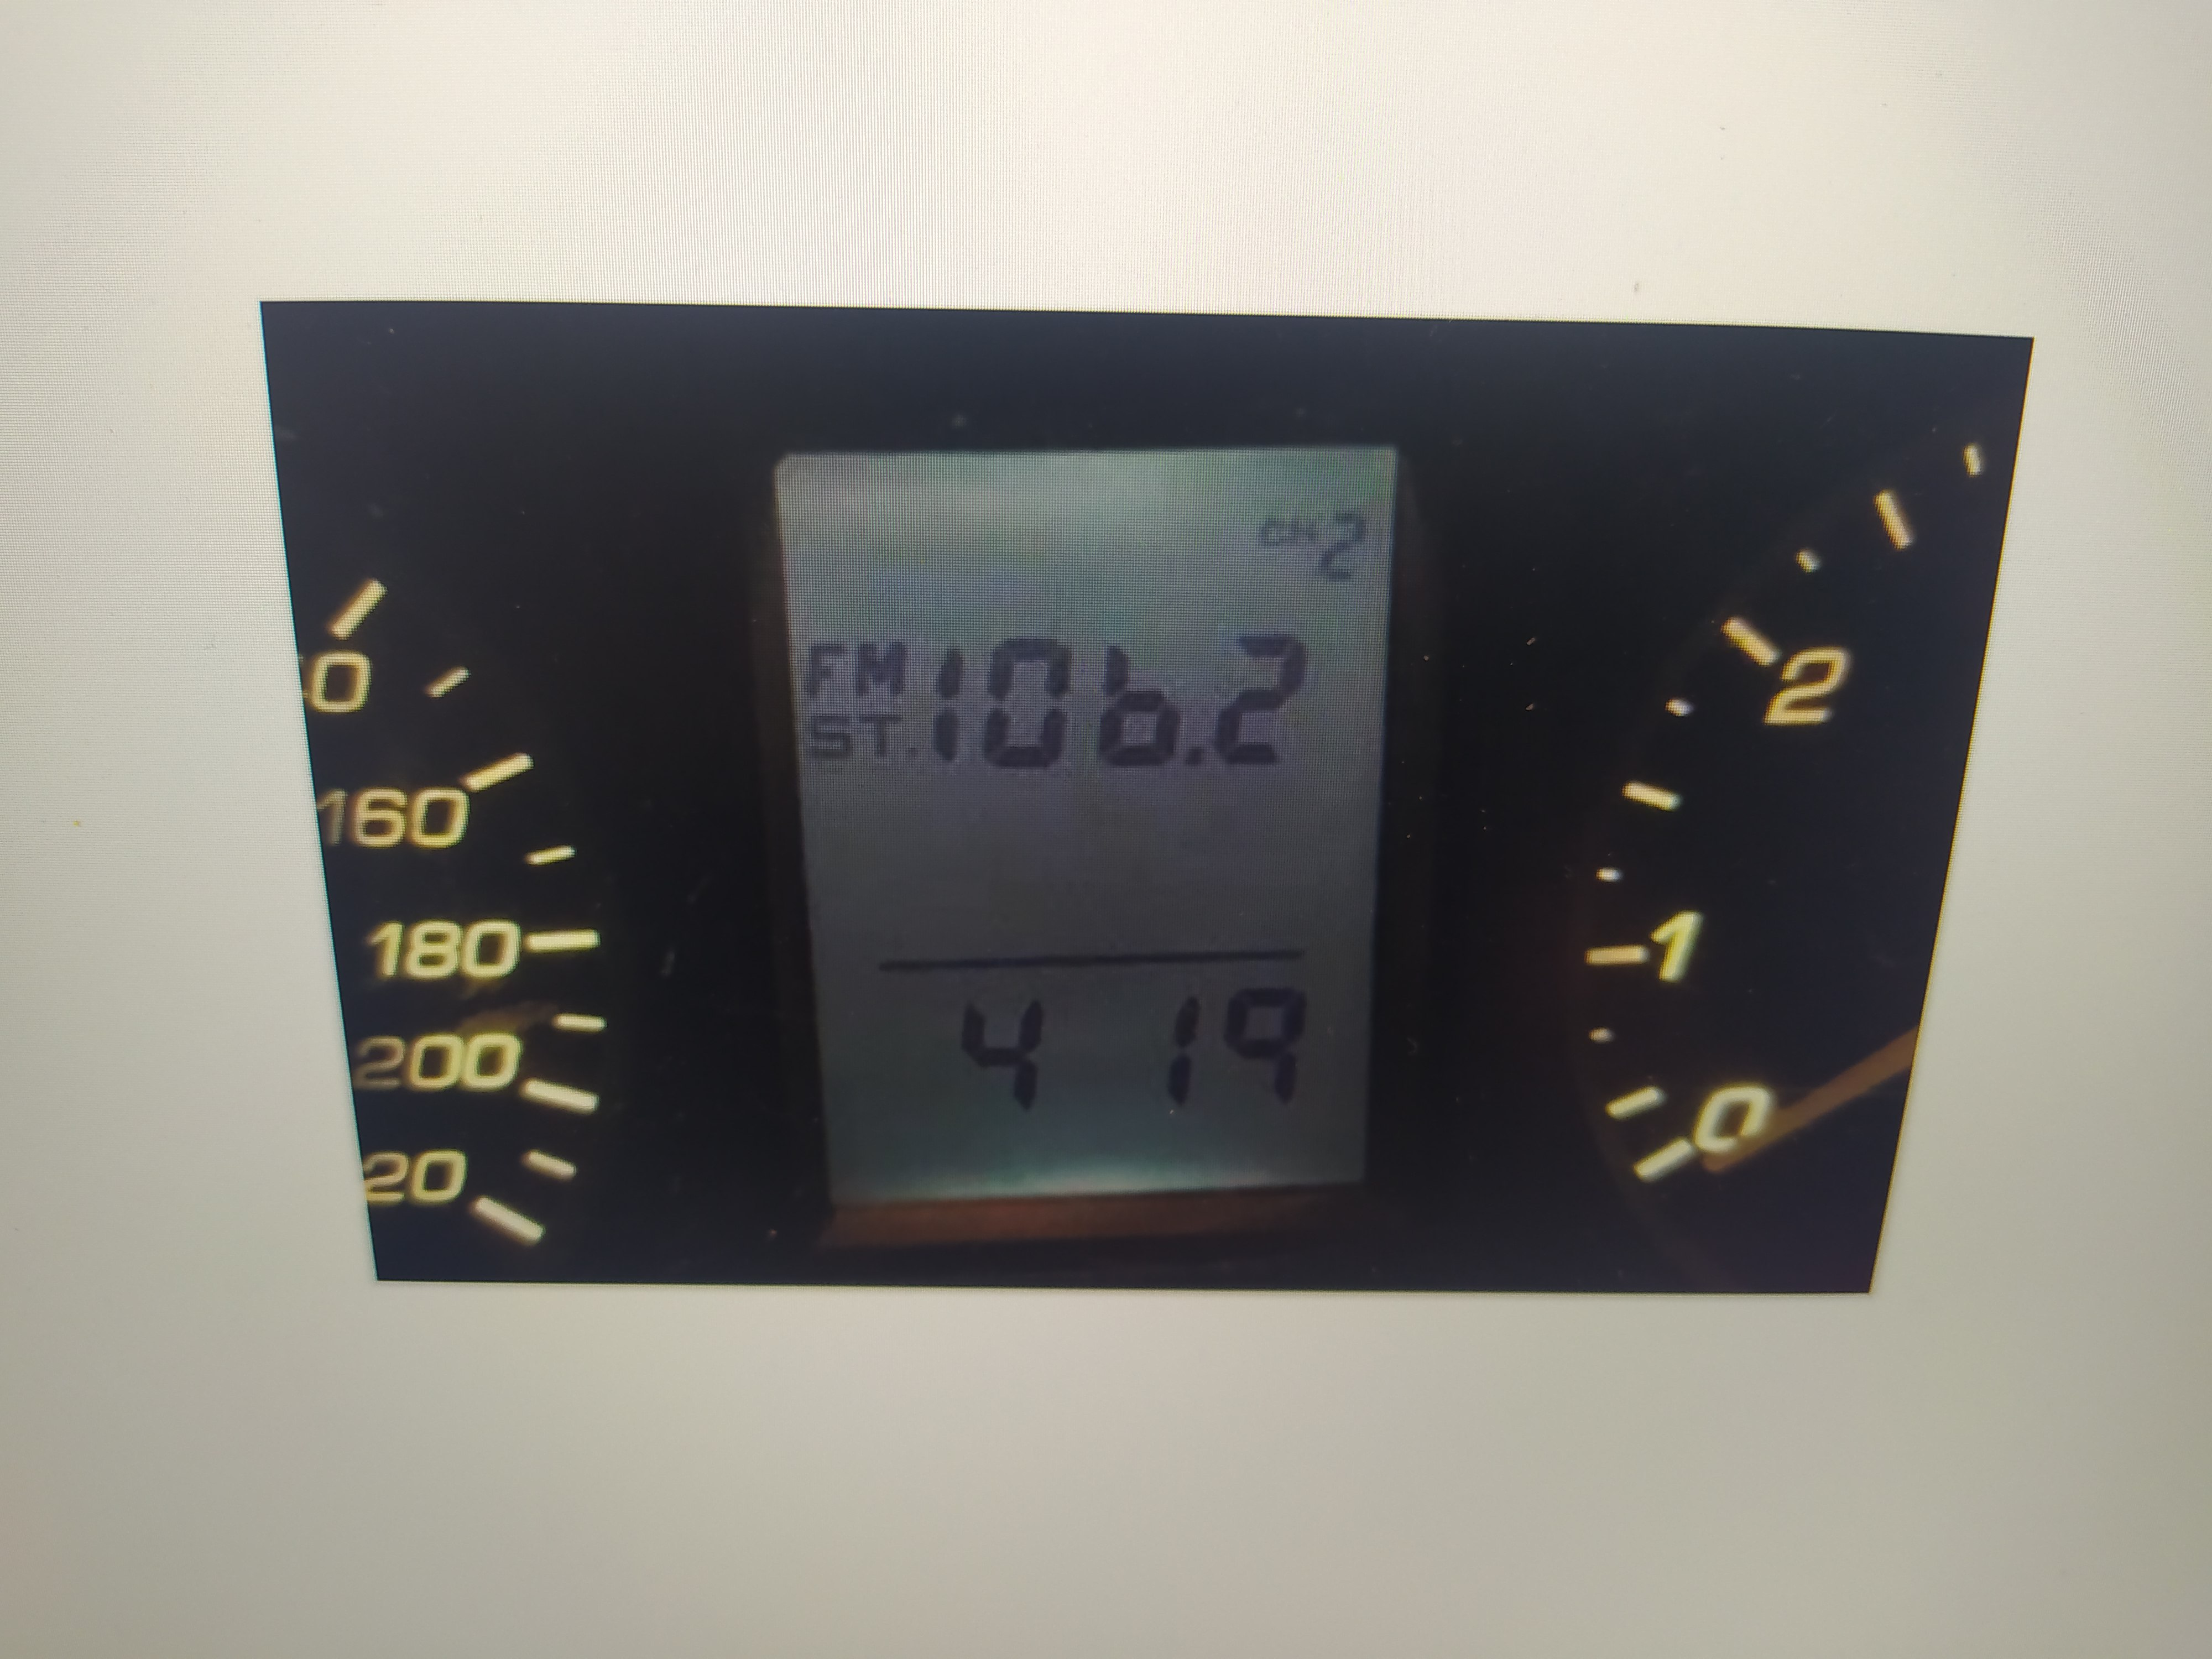.: (1188, 640, 1205, 770)
0: (984, 640, 1073, 770), (1693, 1082, 1773, 1154), (308, 650, 371, 713), (409, 786, 470, 847), (462, 917, 521, 976), (463, 1032, 523, 1091), (409, 1032, 465, 1089), (409, 1148, 467, 1204)
1: (928, 647, 968, 767), (1162, 995, 1204, 1108), (1649, 904, 1705, 986), (366, 920, 404, 979), (315, 786, 347, 847)
2: (1214, 634, 1308, 767), (1757, 647, 1855, 728), (1322, 512, 1366, 580), (352, 1035, 404, 1089), (359, 1150, 409, 1204)
4: (958, 999, 1049, 1115)
6: (1096, 645, 1181, 770), (350, 784, 406, 847)
8: (406, 918, 460, 979)
9: (1223, 986, 1310, 1108)
